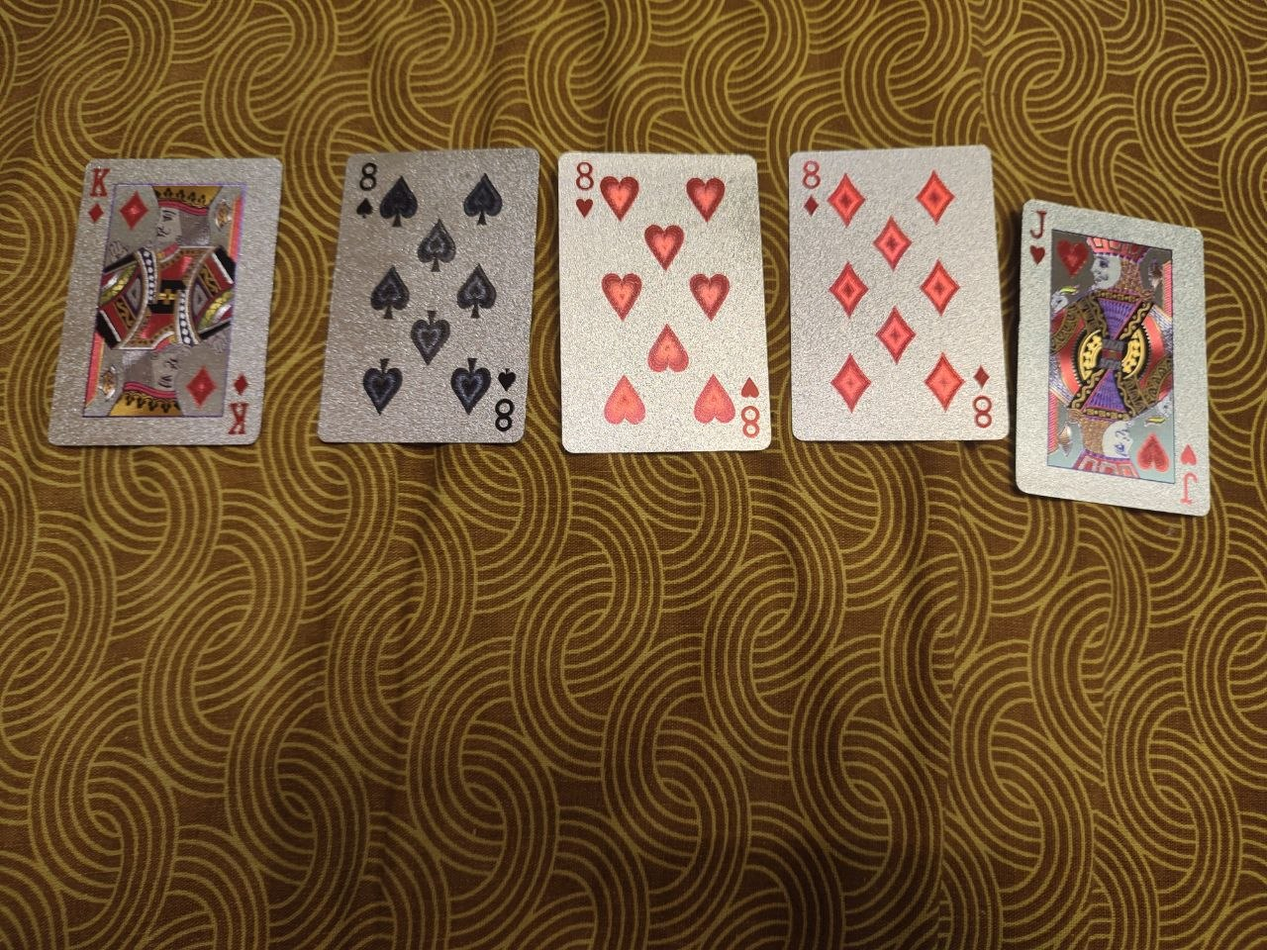8D: (788, 143, 1011, 443)
8H: (554, 147, 776, 455)
8S: (317, 145, 542, 444)
JH: (1014, 198, 1213, 520)
KD: (47, 153, 286, 447)
